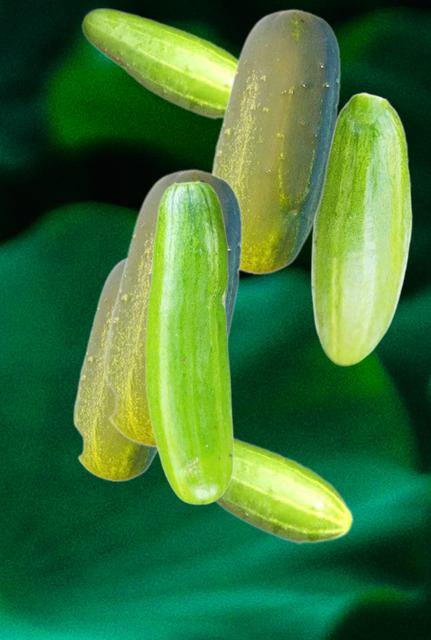cucumber: (102, 168, 241, 447), (210, 8, 339, 274), (145, 180, 233, 504), (310, 92, 411, 365), (72, 257, 157, 481), (81, 7, 237, 119), (215, 436, 353, 544)
